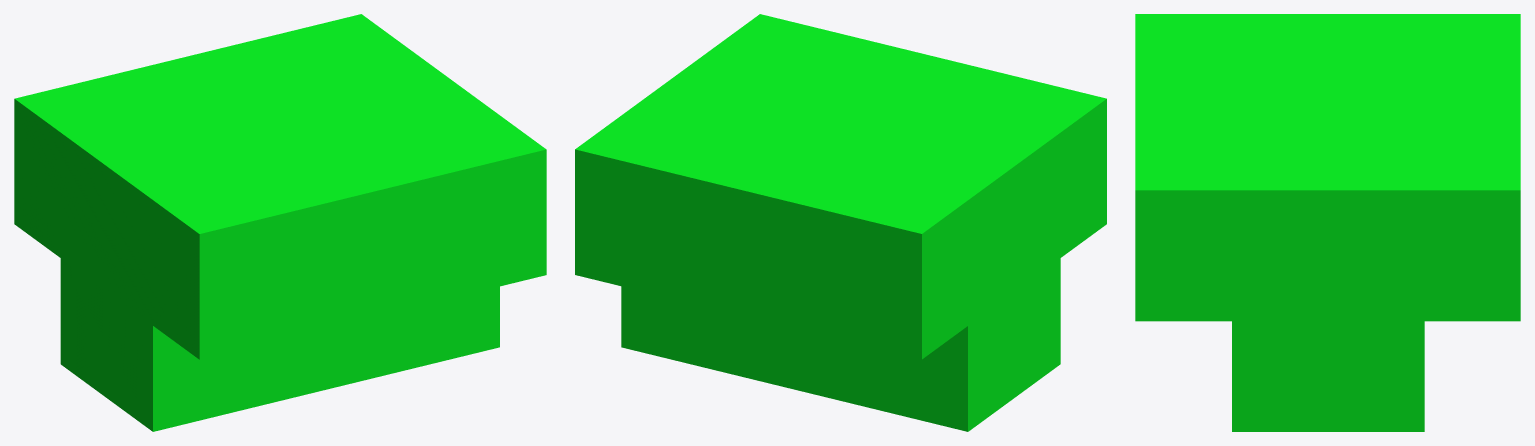
3 views of the same model, side by side, from view 1: azimuth 30°, elevation 25°; view 2: azimuth 150°, elevation 25°; view 3: azimuth 270°, elevation 25° (orthographic). The views are drawn at different scales.
Parts seen in each view (by area): view 1: Brep; view 2: Brep; view 3: Brep.
Part boxes in pixels (<box>): Brep: <box>14,14,546,431</box>; Brep: <box>575,14,1106,431</box>; Brep: <box>1135,14,1520,431</box>.
Bounding box in the file's own units: 0.2075 × 0.1917 × 0.1325.
